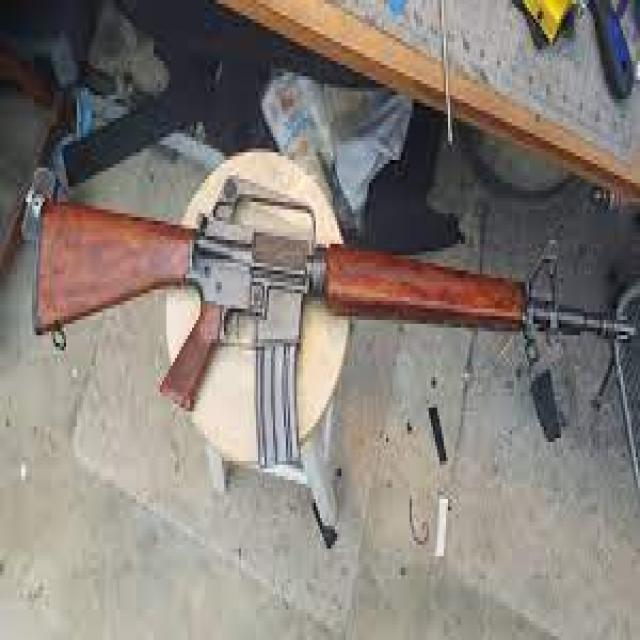weapon: (31, 175, 636, 470)
